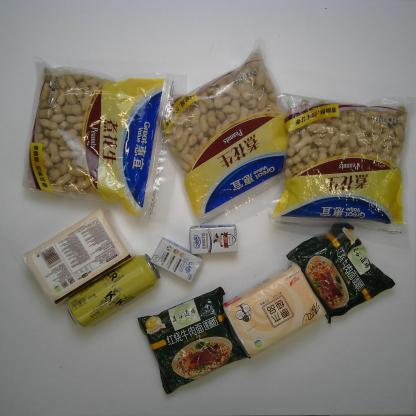Alcohol: (58, 254, 160, 329)
Dried Food: (15, 61, 178, 216), (161, 40, 297, 224), (272, 86, 413, 238)
Instant Noodles: (288, 218, 396, 314), (140, 289, 246, 386)
Milk: (150, 232, 198, 282), (185, 225, 238, 256)
Tissue: (20, 213, 134, 300), (227, 267, 327, 356)
